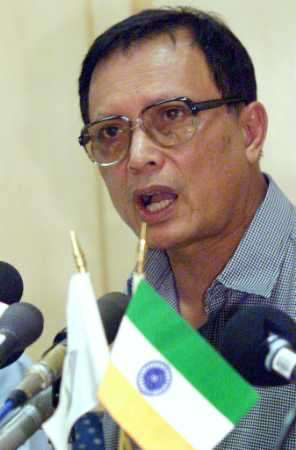Face: (73, 46, 237, 250)
